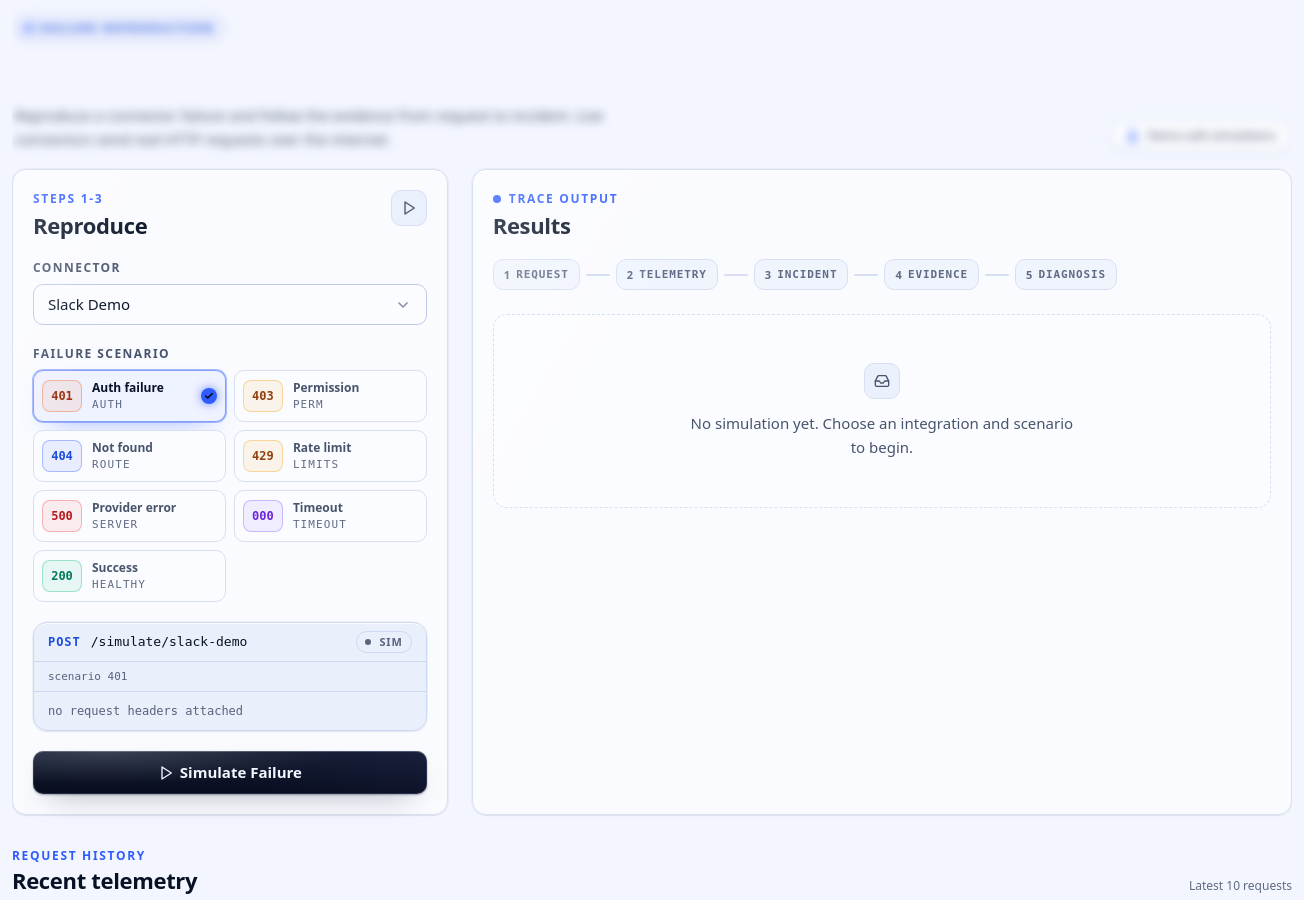
Test case: Lab › simulates a failure and shows results
Click the button "Simulate Failure": [230, 772] box [33, 751, 427, 794]
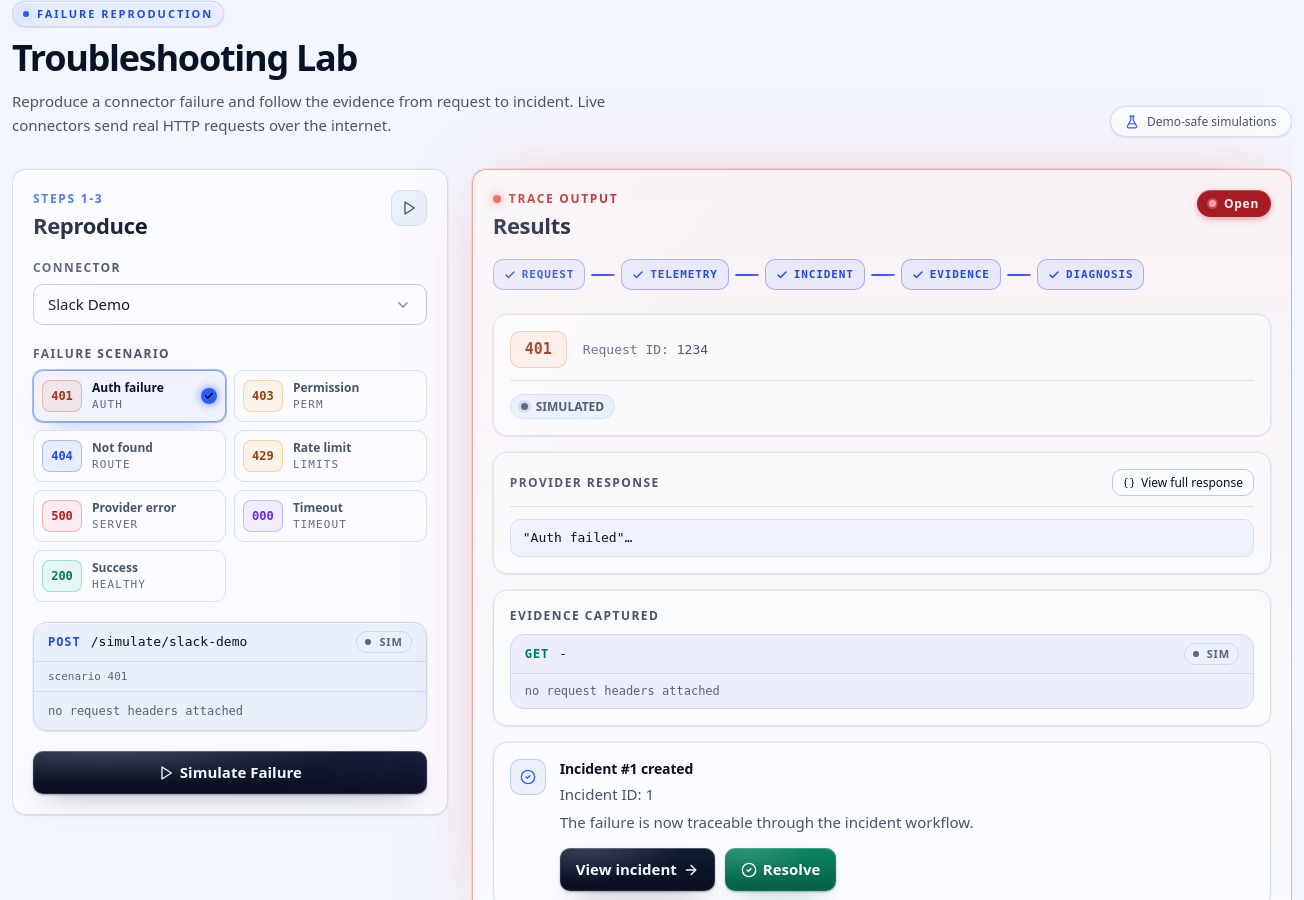
Expected: the text "POST" is shown, [48, 633, 81, 651]
Now the text "Incident ID: 1" is shown, box [560, 784, 654, 804]
Now the text "Request ID: 1234" is shown, box [583, 340, 708, 360]
